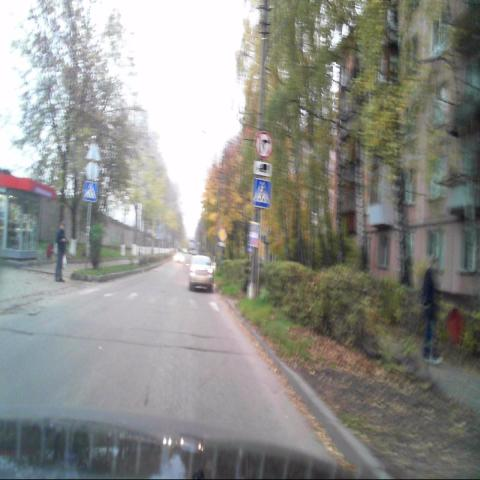3_18: (258, 131, 272, 158)
8_4_1: (255, 161, 272, 177)
